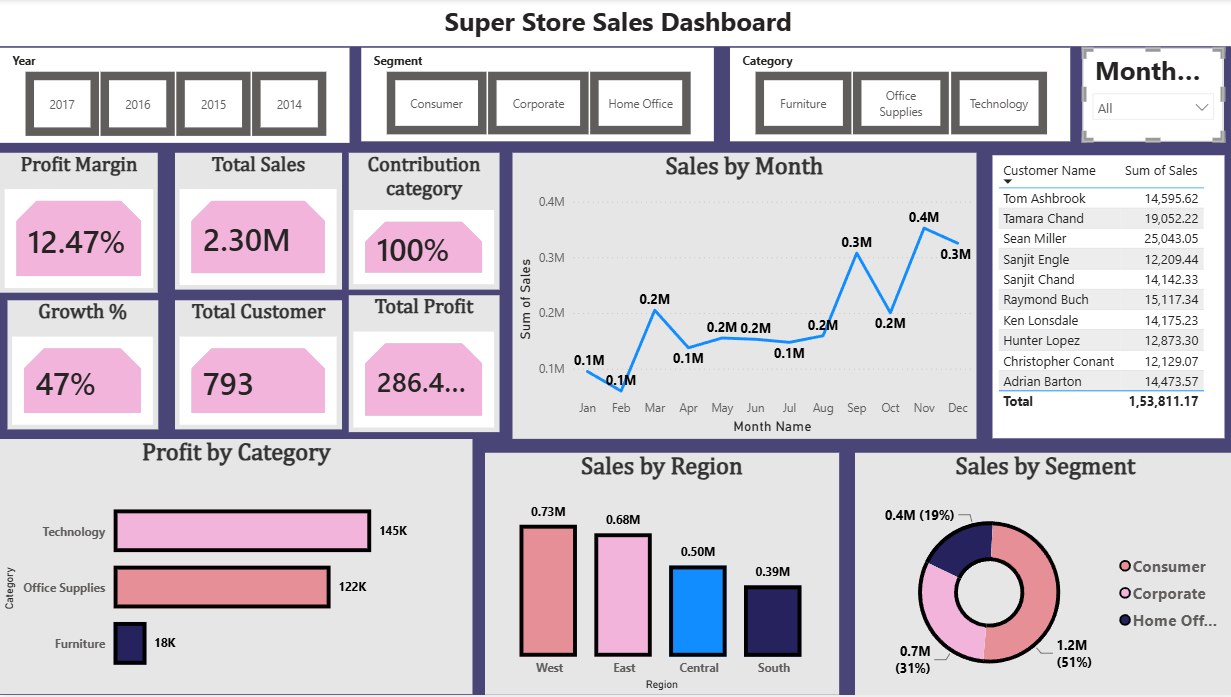

What the dashboard file says about the page in this screenshot:
{"tool":"powerbi","page":{"name":"Page 1","canvas":[1280,720],"ordinal":0},"visuals":[{"type":"cardVisual","title":"Total Sales","fields":{"Data":["Sum(Clean_Superstore_Sale_data.Sales)"]},"box":[180.7,158.9,172.9,141.7],"z":0},{"type":"cardVisual","title":"Total Profit","fields":{"Data":["Sum(Clean_Superstore_Sale_data.Profit)"]},"box":[361.4,306.8,155.8,141.7],"z":1000},{"type":"cardVisual","title":"Profit Margin","fields":{"Data":["Clean_Superstore_Sale_data.Profit Margin"]},"box":[0,158.9,163.5,144.9],"z":2000},{"type":"cardVisual","title":"Growth %","fields":{"Data":["Clean_Superstore_Sale_data.Growth %"]},"box":[7.8,311.5,155.8,134],"z":3000},{"type":"cardVisual","title":"Total Customer","fields":{"Data":["Clean_Superstore_Sale_data.Total Customers"]},"box":[180.7,311.5,172.9,134],"z":4000},{"type":"lineChart","title":"Sales by Month","fields":{"Category":["Date Table.Month Name"],"Y":["Sum(Clean_Superstore_Sale_data.Sales)"]},"box":[529.6,158.9,479.7,295.9],"z":5000},{"type":"clusteredBarChart","title":"Profit by Category","fields":{"Category":["Clean_Superstore_Sale_data.Category"],"Y":["Sum(Clean_Superstore_Sale_data.Profit)"]},"box":[0,454.8,489.1,264.2],"z":6000},{"type":"tableEx","fields":{"Values":["Clean_Superstore_Sale_data.Customer Name","Sum(Clean_Superstore_Sale_data.Sales)"]},"box":[1026.4,162,239.9,292.8],"z":7000},{"type":"donutChart","title":"Sales by Segment","fields":{"Category":["Clean_Superstore_Sale_data.Segment"],"Y":["Sum(Clean_Superstore_Sale_data.Sales)"]},"box":[884.7,468.8,394.1,252.3],"z":8000},{"type":"columnChart","title":"Sales by Region","fields":{"Category":["Clean_Superstore_Sale_data.Region"],"Y":["Sum(Clean_Superstore_Sale_data.Sales)"]},"box":[501.5,468.8,366,250.8],"z":9000},{"type":"slicer","fields":{"Values":["Clean_Superstore_Sale_data.Segment"]},"box":[373.7,50.4,364.7,97],"z":10000},{"type":"slicer","title":"Year","fields":{"Values":["Date Table.Year"]},"box":[0,49.8,361.4,98.1],"z":11000},{"type":"slicer","fields":{"Values":["Date Table.Month Name"]},"box":[1119.9,50.4,146.1,97],"z":12000},{"type":"slicer","fields":{"Values":["Clean_Superstore_Sale_data.Category"]},"box":[755.2,50.4,351.7,97],"z":13000},{"type":"cardVisual","title":"Contribution category","fields":{"Data":["Clean_Superstore_Sale_data.Category Contribution %"]},"box":[361.4,158.9,155.8,141.7],"z":14000},{"type":"textbox","box":[0,0,1279,49.1],"z":15000}]}

Visuals, with their boxes in screenshot pixels (x1, y1, x2, y2), scaled from the page's 1280x720 canvas onto the 1231x697 screenshot:
"Total Sales" cardVisual: {"x1": 174, "y1": 154, "x2": 340, "y2": 291}
"Total Profit" cardVisual: {"x1": 348, "y1": 297, "x2": 497, "y2": 434}
"Profit Margin" cardVisual: {"x1": 0, "y1": 154, "x2": 157, "y2": 294}
"Growth %" cardVisual: {"x1": 8, "y1": 302, "x2": 157, "y2": 431}
"Total Customer" cardVisual: {"x1": 174, "y1": 302, "x2": 340, "y2": 431}
"Sales by Month" lineChart: {"x1": 509, "y1": 154, "x2": 971, "y2": 440}
"Profit by Category" clusteredBarChart: {"x1": 0, "y1": 440, "x2": 470, "y2": 696}
tableEx - Clean_Superstore_Sale_data.Customer Name x Sum(Clean_Superstore_Sale_data.Sales): {"x1": 987, "y1": 157, "x2": 1218, "y2": 440}
"Sales by Segment" donutChart: {"x1": 851, "y1": 454, "x2": 1230, "y2": 696}
"Sales by Region" columnChart: {"x1": 482, "y1": 454, "x2": 834, "y2": 696}
slicer - Clean_Superstore_Sale_data.Segment: {"x1": 359, "y1": 49, "x2": 710, "y2": 143}
"Year" slicer: {"x1": 0, "y1": 48, "x2": 348, "y2": 143}
slicer - Date Table.Month Name: {"x1": 1077, "y1": 49, "x2": 1218, "y2": 143}
slicer - Clean_Superstore_Sale_data.Category: {"x1": 726, "y1": 49, "x2": 1065, "y2": 143}
"Contribution category" cardVisual: {"x1": 348, "y1": 154, "x2": 497, "y2": 291}
textbox: {"x1": 0, "y1": 0, "x2": 1230, "y2": 48}
